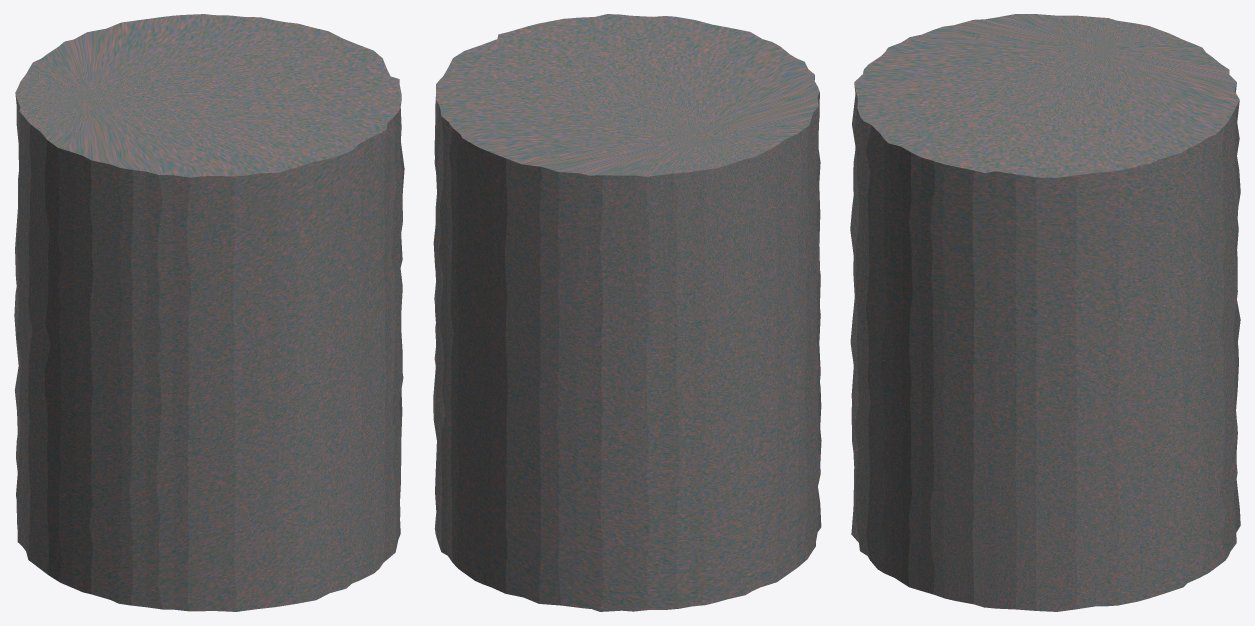
The model's file is barrel_48.dae.
3 renders of one model, left to right at view 1: azimuth 30°, elevation 25°; view 2: azimuth 150°, elevation 25°; view 3: azimuth 270°, elevation 25°, orthographic.
Visible parts, largest first — view 1: Cylinder; view 2: Cylinder; view 3: Cylinder.
Boxes of the visible parts, x1,y1,x2,y2 form: Cylinder: (14, 14, 404, 611); Cylinder: (433, 14, 821, 611); Cylinder: (850, 14, 1240, 611).
Size of the model in its own units: 0.8159 by 0.8143 by 1.
1 material, 1 textured.
